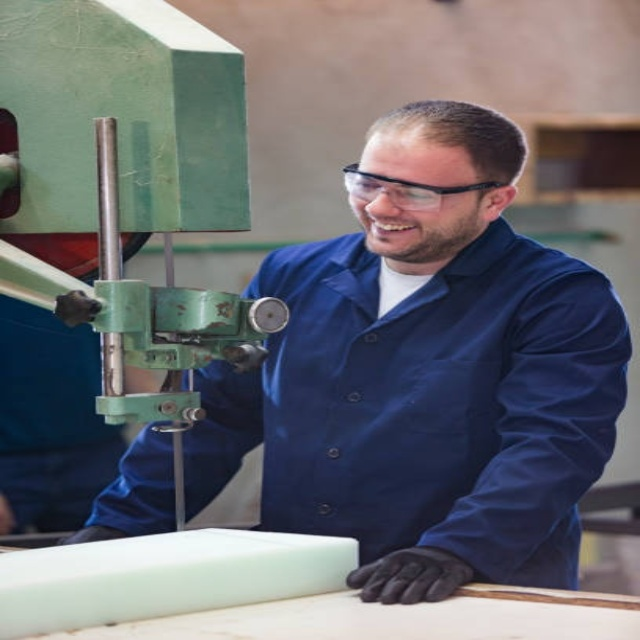Gafas: (342, 165, 501, 212)
Guantes: (347, 543, 477, 604)
Sin_mascara: (362, 215, 428, 250)
